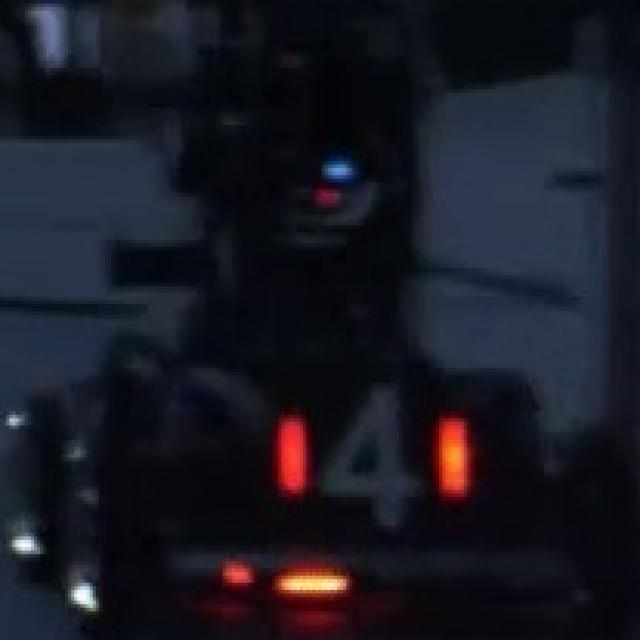R4: (278, 386, 467, 522)
